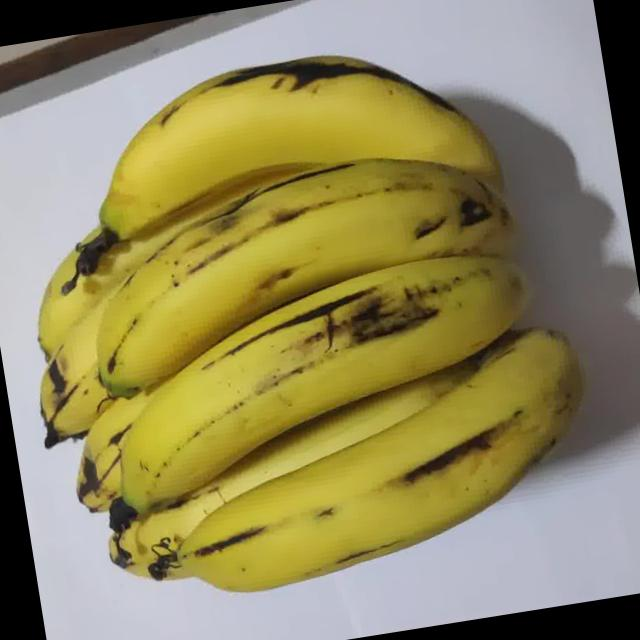banana_pacche: (0, 23, 610, 639)
